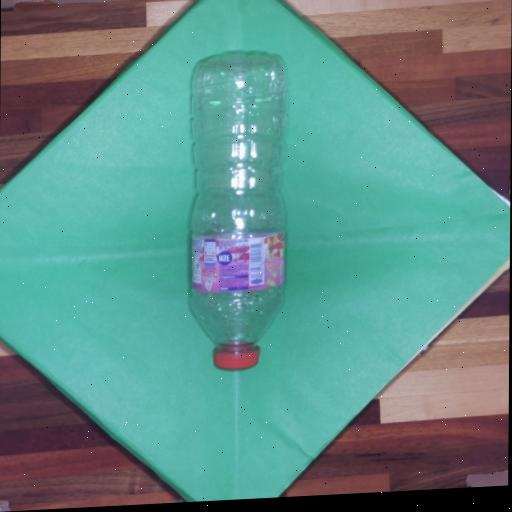bottle: (184, 45, 289, 372)
